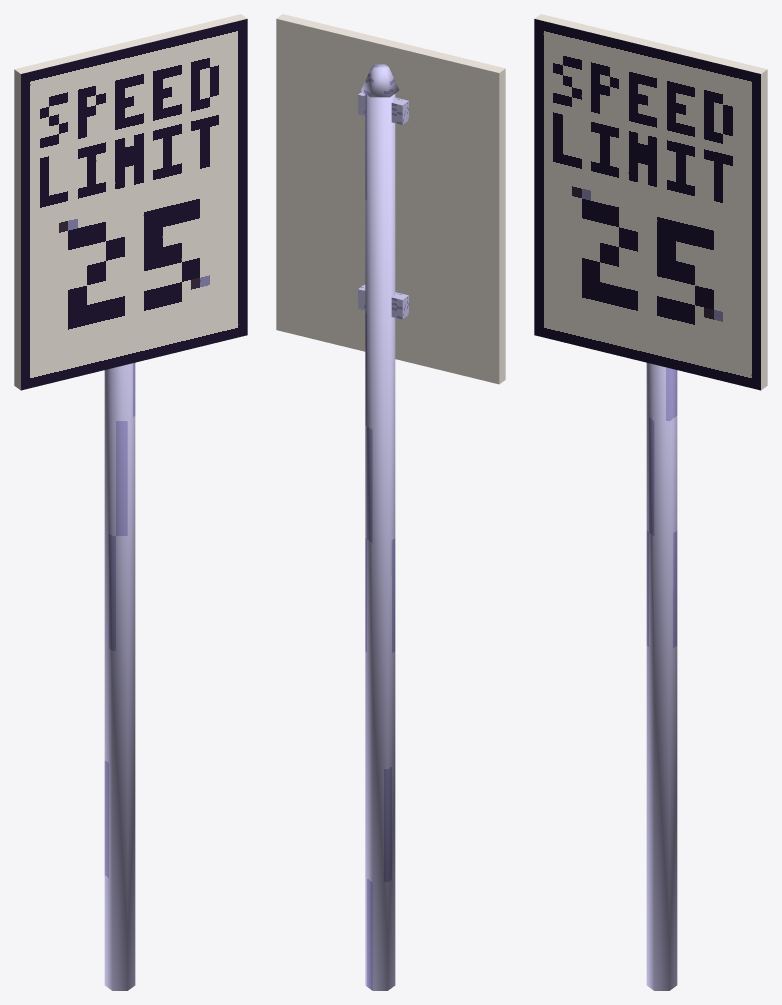
Rendered from Speed Sign.fbx.
3 renders of one model, left to right at view 1: azimuth 30°, elevation 25°; view 2: azimuth 150°, elevation 25°; view 3: azimuth 330°, elevation 25°, orthographic.
Visible parts, largest first — view 1: Speed Sign plate, Speed Sign pole; view 2: Speed Sign plate, Speed Sign pole, Speed Sign cap, Speed Sign bracket 1.75, Speed Sign bracket 2.25; view 3: Speed Sign plate, Speed Sign pole.
Boxes of the visible parts, bbox=[...] form: Speed Sign plate: bbox=[14, 14, 247, 390]; Speed Sign pole: bbox=[104, 363, 135, 990]; Speed Sign plate: bbox=[276, 14, 505, 384]; Speed Sign pole: bbox=[365, 94, 395, 990]; Speed Sign cap: bbox=[361, 64, 399, 97]; Speed Sign bracket 1.75: bbox=[358, 284, 408, 319]; Speed Sign bracket 2.25: bbox=[358, 91, 408, 124]; Speed Sign plate: bbox=[534, 14, 767, 390]; Speed Sign pole: bbox=[646, 363, 677, 990].
Size of the model in its own units: 0.6 by 2.4 by 0.11.
2 materials, 2 textured.
